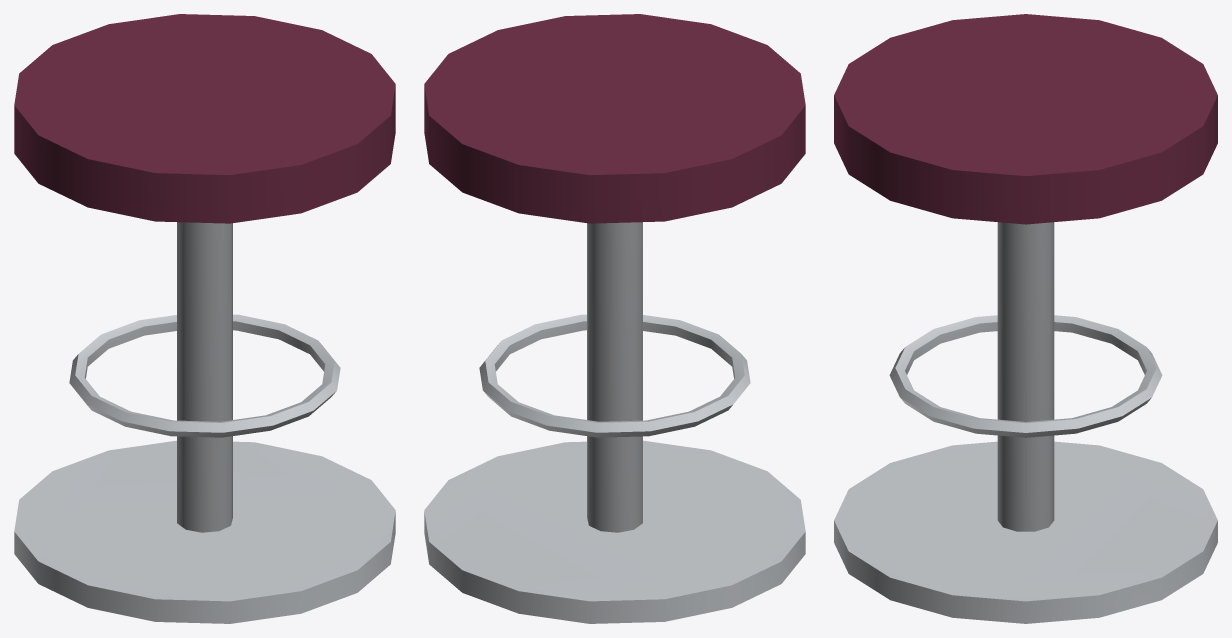
The model's file is stool_barChrome.glb.
The picture shows the model from 3 angles, left to right: view 1: azimuth 30°, elevation 25°; view 2: azimuth 150°, elevation 25°; view 3: azimuth 270°, elevation 25°; orthographic projection.
Visible parts, largest first — view 1: stool_barChrome; view 2: stool_barChrome; view 3: stool_barChrome.
Boxes of the visible parts, bbox=[...] form: stool_barChrome: bbox=[14, 14, 395, 623]; stool_barChrome: bbox=[424, 14, 805, 623]; stool_barChrome: bbox=[834, 14, 1217, 623].
Bounding box in the file's own units: 0.54 × 0.695 × 0.54.
